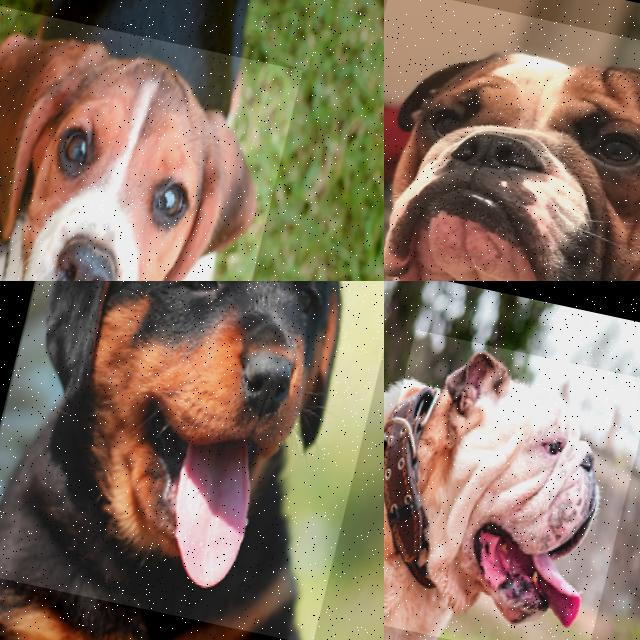beagle: (0, 4, 304, 281)
bulldog: (384, 329, 640, 640), (384, 0, 640, 281)
rottweiler: (0, 281, 384, 640)
